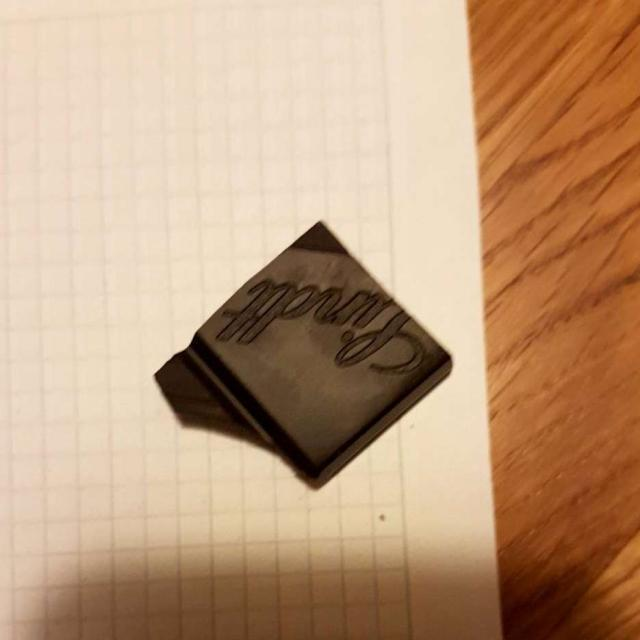chocolate: (169, 227, 447, 476)
